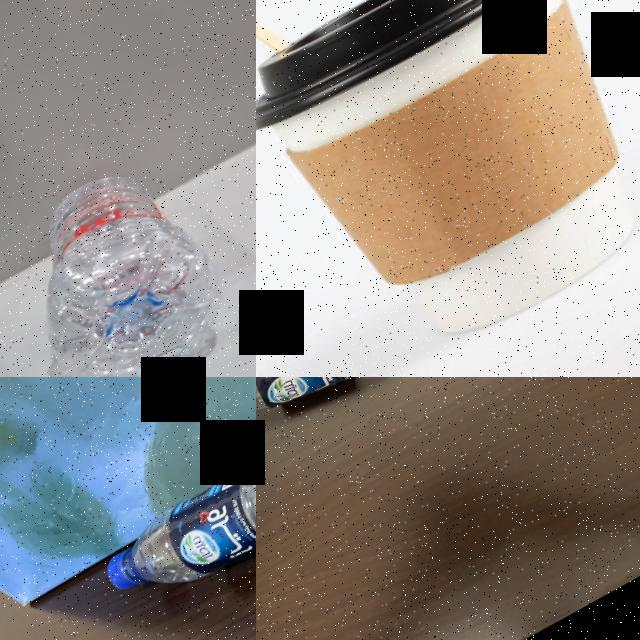bottle: (0, 149, 239, 377), (82, 377, 256, 640), (256, 377, 544, 504)
cup: (256, 0, 640, 377)
